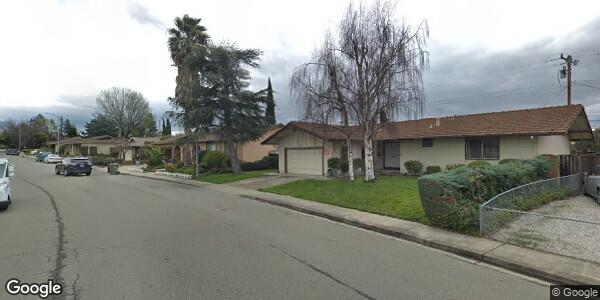Wood_Pole: (546, 51, 583, 106)
